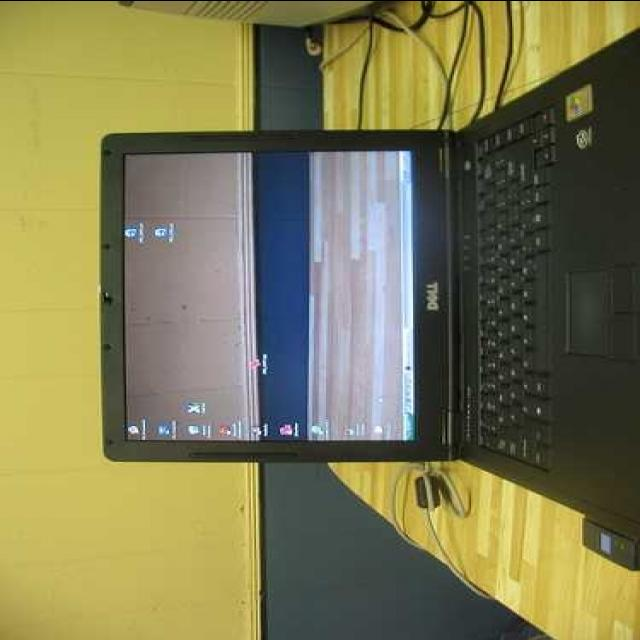laptop: (71, 104, 640, 575)
